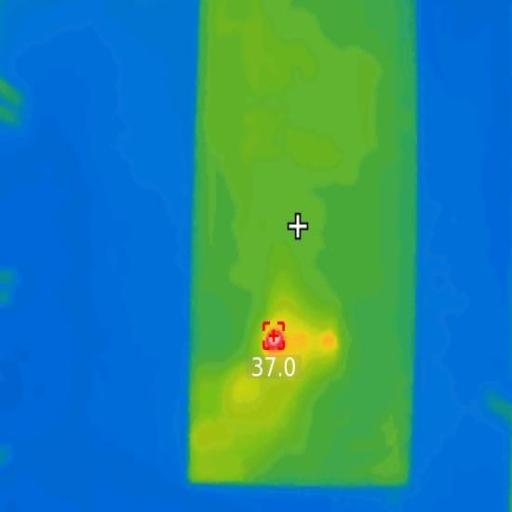hotspot: (265, 326, 285, 354)
